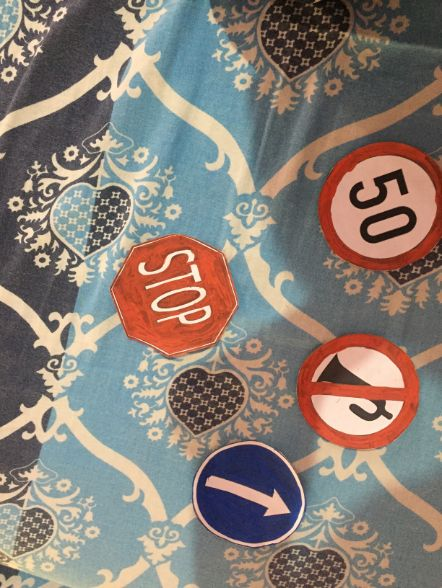go-stright: (195, 442, 304, 551)
no-horn: (297, 336, 412, 451)
speed-50: (320, 141, 442, 263)
stop: (110, 235, 232, 357)
